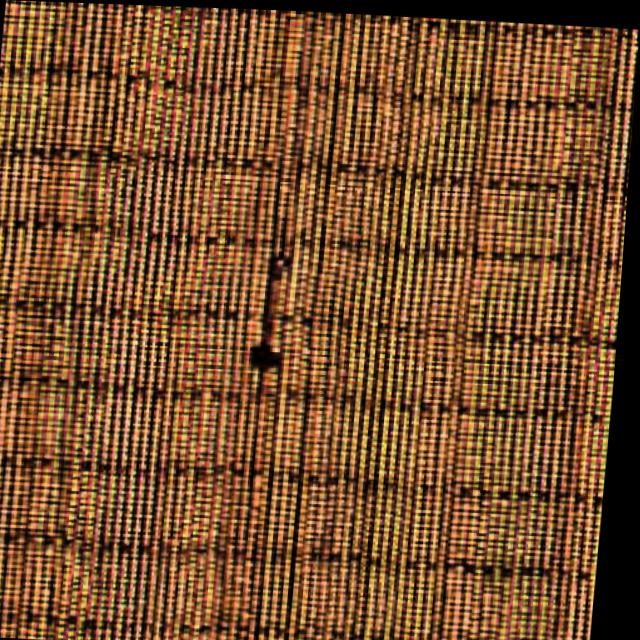Stitch: (208, 214, 339, 396)
